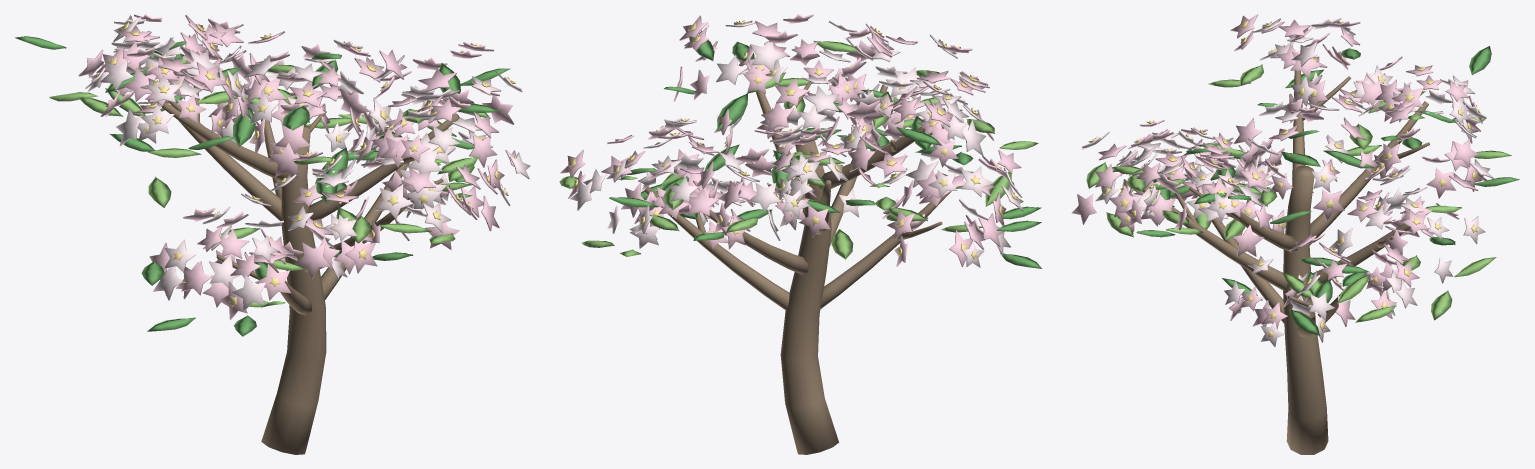
Rendered from SM_PlantBlossom.fbx.
The picture shows the model from 3 angles, left to right: view 1: azimuth 30°, elevation 25°; view 2: azimuth 150°, elevation 25°; view 3: azimuth 270°, elevation 25°; orthographic projection. The views are drawn at different scales.
Visible parts, largest first — view 1: PlantBlossom; view 2: PlantBlossom; view 3: PlantBlossom.
Boxes of the visible parts, x1=… form: PlantBlossom: x1=15, y1=14, x2=530, y2=454; PlantBlossom: x1=559, y1=14, x2=1041, y2=454; PlantBlossom: x1=1071, y1=14, x2=1519, y2=454.
Size of the model in its own units: 1.74 by 1.73 by 1.83.
